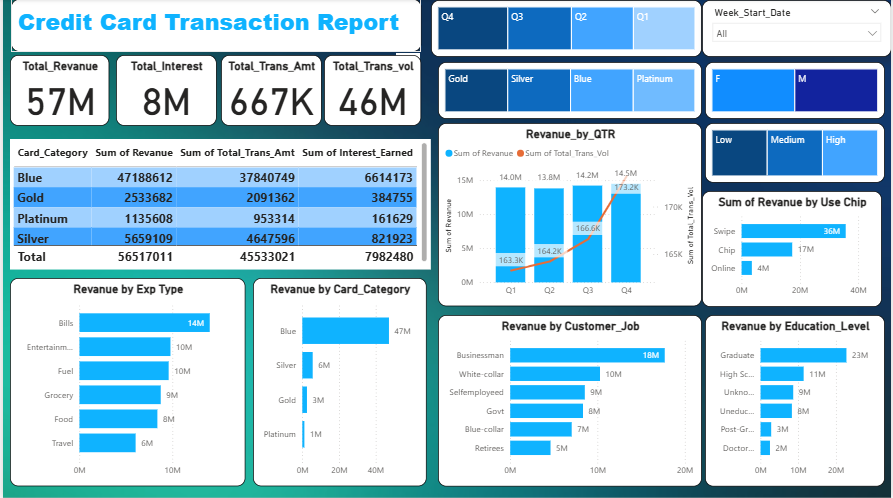

What the dashboard file says about the page in this screenshot:
{"tool":"powerbi","page":{"name":"CCTR","canvas":[1280,720],"ordinal":0},"visuals":[{"type":"textbox","box":[10.8,0,591.2,75.9],"z":0},{"type":"lineStackedColumnComboChart","title":"Revanue_by_QTR","fields":{"Category":["CreditCard.Qtr"],"Y":["Sum(CreditCard.Revanue)"],"Y2":["Sum(CreditCard.Total_Trans_Vol)"]},"box":[626.8,178.3,379.9,264.5],"z":1000},{"type":"barChart","title":"Revanue by Exp Type","fields":{"Y":["Sum(CreditCard.Revanue)"],"Category":["CreditCard.Exp Type"]},"box":[10.2,401.8,339,299.5],"z":2000},{"type":"barChart","fields":{"Y":["Sum(CreditCard.Revanue)"],"Category":["CreditCard.Use Chip"]},"box":[1006.8,276.2,258.6,166.6],"z":3000},{"type":"barChart","title":"Revanue by Card_Category","fields":{"Y":["Sum(CreditCard.Revanue)"],"Category":["CreditCard.Card_Category"]},"box":[359.5,401.8,249.9,299.5],"z":4000},{"type":"barChart","title":"Revanue by Education_Level","fields":{"Y":["Sum(CreditCard.Revanue)"],"Category":["customer.Education_Level"]},"box":[1011.1,454.4,258.6,246.9],"z":5000},{"type":"tableEx","fields":{"Values":["CreditCard.Card_Category","Sum(CreditCard.Revanue)","Sum(CreditCard.Total_Trans_Amt)","Sum(CreditCard.Interest_Earned)"]},"box":[10.2,201.6,606.4,188.5],"z":6000},{"type":"card","title":"Total_Revanue","fields":{"Values":["Sum(CreditCard.Revanue)"]},"box":[10.2,80.4,143.2,102.3],"z":7000},{"type":"card","title":"Total_Interest","fields":{"Values":["Sum(CreditCard.Interest_Earned)"]},"box":[162.2,80.4,144.7,102.3],"z":8000},{"type":"card","title":"Total_Trans_Amt","fields":{"Values":["Sum(CreditCard.Total_Trans_Vol)"]},"box":[314.2,80.4,144.7,102.3],"z":9000},{"type":"card","title":"Total_Trans_vol","fields":{"Values":["Sum(CreditCard.Total_Trans_Amt)"]},"box":[461.7,80.4,140.3,102.3],"z":10000},{"type":"barChart","title":" Revanue by Customer_Job","fields":{"Y":["Sum(CreditCard.Revanue)"],"Category":["customer.Customer_Job"]},"box":[626.8,454.4,379.9,246.9],"z":11000},{"type":"treemap","fields":{"Group":["CreditCard.Qtr"],"Values":["Avg(CreditCard.Client_Num)"]},"box":[616.6,1.5,390.1,81.8],"z":12000},{"type":"slicer","fields":{"Values":["CreditCard.Week_Start_Date"]},"box":[1006.8,1.5,273.2,81.8],"z":13000},{"type":"treemap","fields":{"Group":["customer.Gender"],"Values":["Avg(CreditCard.Client_Num)"]},"box":[1011.1,90.6,258.6,81.8],"z":14000},{"type":"treemap","fields":{"Group":["CreditCard.Card_Category"],"Values":["Avg(CreditCard.Client_Num)"]},"box":[626.8,90.6,379.9,81.8],"z":15000},{"type":"treemap","fields":{"Group":["customer.IncomeGroup"],"Values":["Avg(CreditCard.Client_Num)"]},"box":[1011.1,178.3,258.6,86.2],"z":16000}]}

Visuals, with their boxes in screenshot pixels (x1, y1, x2, y2), scaled from the page's 1280x720 canvas onto the 893x498 screenshot:
textbox: pyautogui.locateOnScreen(8, 0, 420, 52)
"Revanue_by_QTR" lineStackedColumnComboChart: pyautogui.locateOnScreen(437, 123, 702, 306)
"Revanue by Exp Type" barChart: pyautogui.locateOnScreen(7, 278, 244, 485)
barChart - Sum(CreditCard.Revanue) x CreditCard.Use Chip: pyautogui.locateOnScreen(702, 191, 883, 306)
"Revanue by Card_Category" barChart: pyautogui.locateOnScreen(251, 278, 425, 485)
"Revanue by Education_Level" barChart: pyautogui.locateOnScreen(705, 314, 886, 485)
tableEx - CreditCard.Card_Category x Sum(CreditCard.Revanue): pyautogui.locateOnScreen(7, 139, 430, 270)
"Total_Revanue" card: pyautogui.locateOnScreen(7, 56, 107, 126)
"Total_Interest" card: pyautogui.locateOnScreen(113, 56, 214, 126)
"Total_Trans_Amt" card: pyautogui.locateOnScreen(219, 56, 320, 126)
"Total_Trans_vol" card: pyautogui.locateOnScreen(322, 56, 420, 126)
" Revanue by Customer_Job" barChart: pyautogui.locateOnScreen(437, 314, 702, 485)
treemap - CreditCard.Qtr x Avg(CreditCard.Client_Num): pyautogui.locateOnScreen(430, 1, 702, 58)
slicer - CreditCard.Week_Start_Date: pyautogui.locateOnScreen(702, 1, 892, 58)
treemap - customer.Gender x Avg(CreditCard.Client_Num): pyautogui.locateOnScreen(705, 63, 886, 119)
treemap - CreditCard.Card_Category x Avg(CreditCard.Client_Num): pyautogui.locateOnScreen(437, 63, 702, 119)
treemap - customer.IncomeGroup x Avg(CreditCard.Client_Num): pyautogui.locateOnScreen(705, 123, 886, 183)
